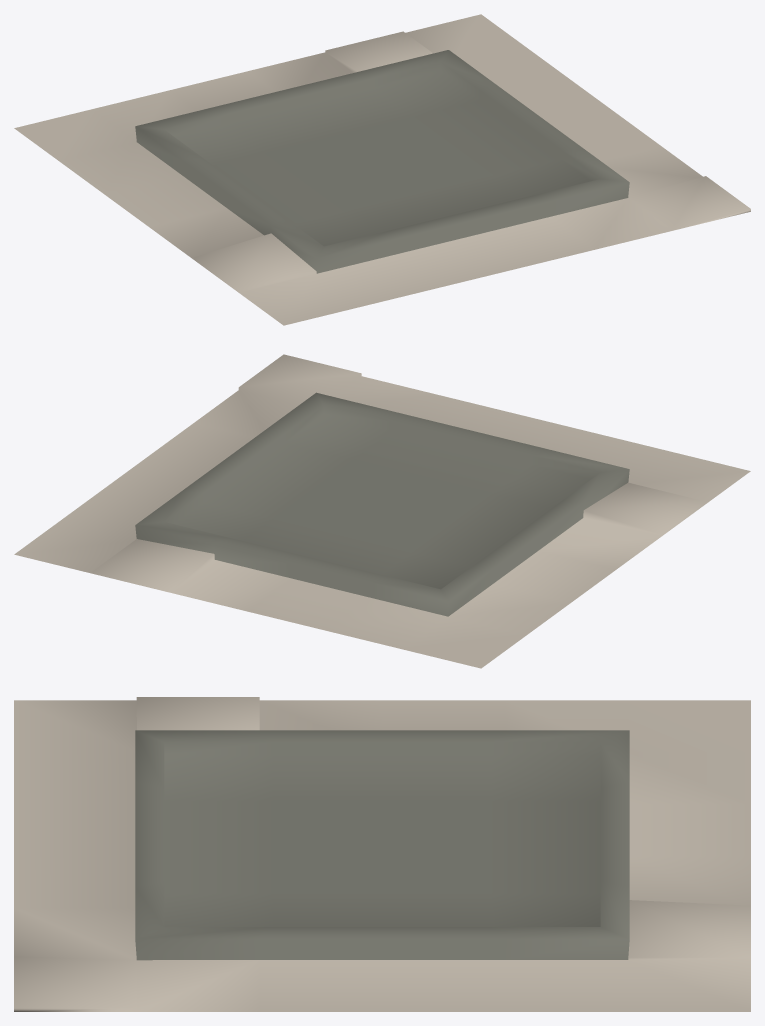
File: FloorPuzzle.fbx
The picture shows the model from 3 angles, top to bottom: view 1: azimuth 30°, elevation 25°; view 2: azimuth 150°, elevation 25°; view 3: azimuth 270°, elevation 25°; orthographic projection. The views are drawn at different scales.
Visible parts, largest first — view 1: FloorPuzzleTrigger; view 2: FloorPuzzleTrigger; view 3: FloorPuzzleTrigger.
Part boxes in pixels (x1,y1,x2,y2): FloorPuzzleTrigger: (14,14,750,325); FloorPuzzleTrigger: (14,354,750,668); FloorPuzzleTrigger: (14,697,750,1011).
Size of the model in its own units: 800 by 25.92 by 800.
